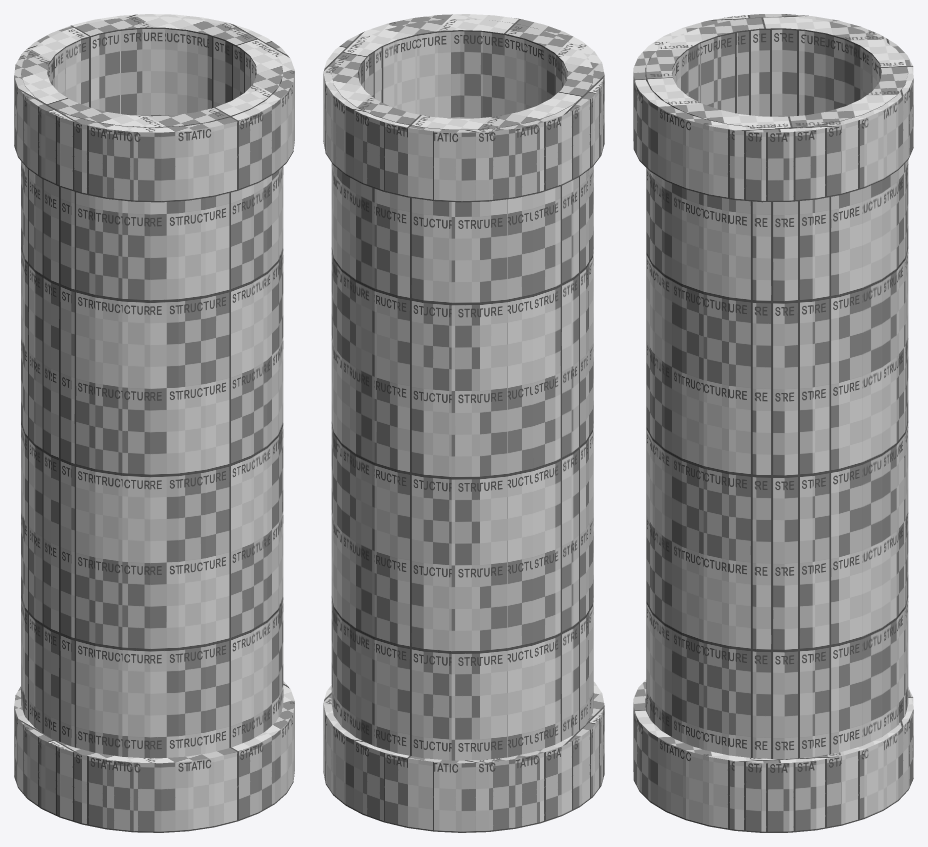
Rendered from Pipe(small).fbx.
The picture shows the model from 3 angles, left to right: view 1: azimuth 30°, elevation 25°; view 2: azimuth 150°, elevation 25°; view 3: azimuth 270°, elevation 25°; orthographic projection.
Parts seen in each view (by area): view 1: Pipe_small_, Pipe_Ring_wall__1, Pipe_Ring_wall_; view 2: Pipe_small_, Pipe_Ring_wall__1, Pipe_Ring_wall_; view 3: Pipe_small_, Pipe_Ring_wall__1, Pipe_Ring_wall_.
Boxes of the visible parts, x1,y1,x2,y2 form: Pipe_small_: (21,16,283,758); Pipe_Ring_wall__1: (14,14,294,202); Pipe_Ring_wall_: (14,681,294,832); Pipe_small_: (331,19,593,760); Pipe_Ring_wall__1: (323,14,604,202); Pipe_Ring_wall_: (323,681,604,832); Pipe_small_: (646,17,908,759); Pipe_Ring_wall__1: (633,14,913,202); Pipe_Ring_wall_: (633,679,913,832).
Bounding box in the file's own units: 86.62 × 239 × 86.62.
